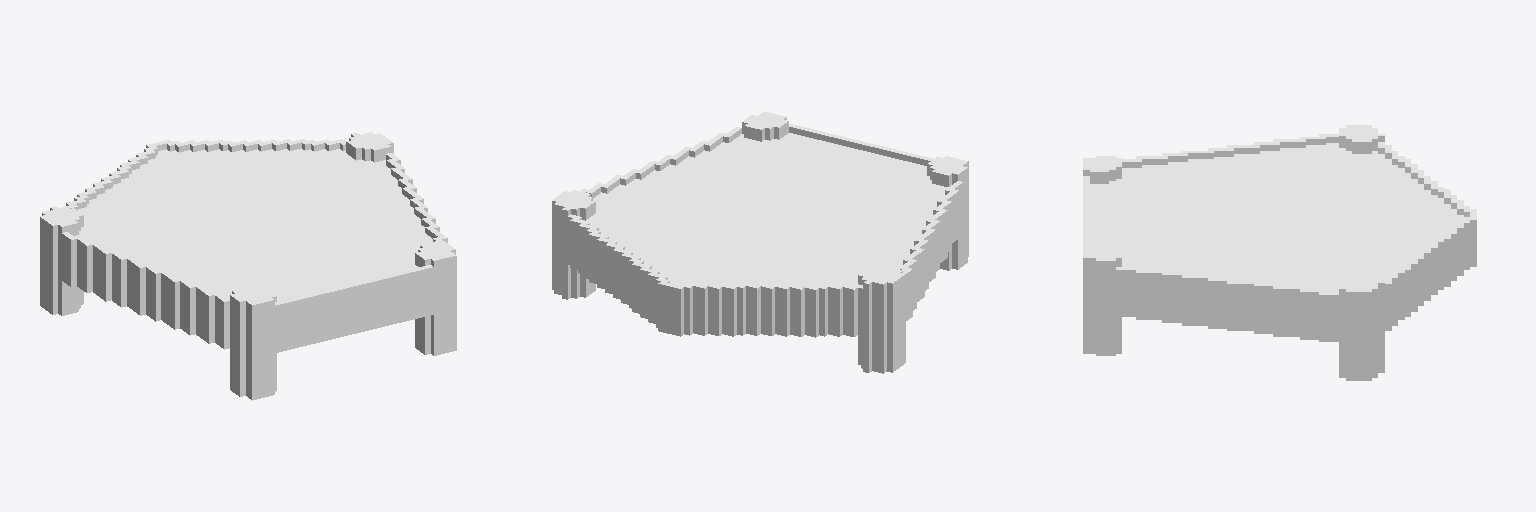
The model's file is Starter_Dock.obj.
3 renders of one model, left to right at view 1: azimuth 30°, elevation 25°; view 2: azimuth 150°, elevation 25°; view 3: azimuth 270°, elevation 25°, orthographic.
Size of the model in its own units: 60 by 16 by 60.